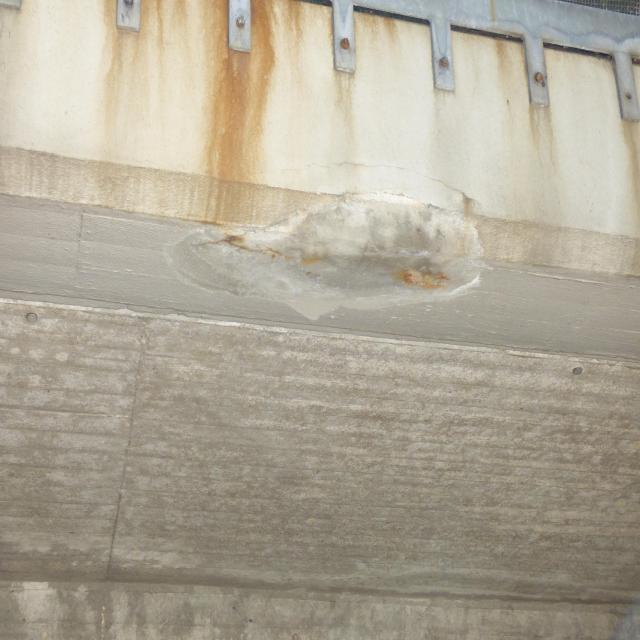concrete spalling: (163, 189, 482, 322)
horizontal crack: (269, 161, 481, 204), (201, 235, 319, 265)
